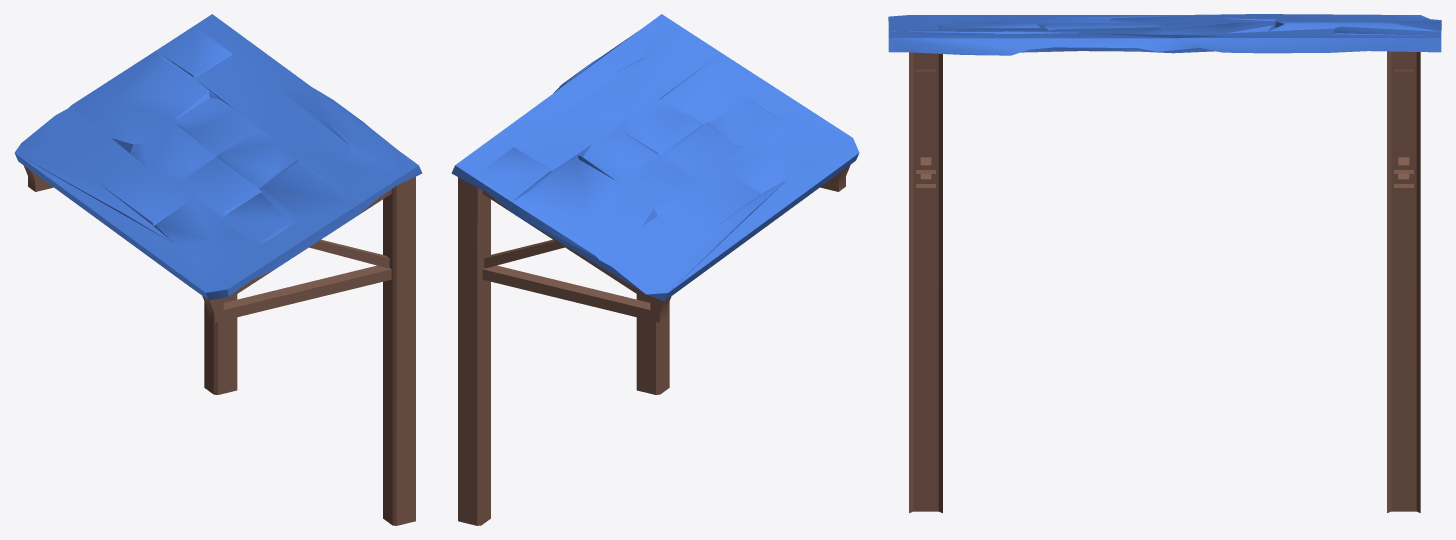
Rendered from door_canopy_1.FBX.
3 renders of one model, left to right at view 1: azimuth 30°, elevation 25°; view 2: azimuth 150°, elevation 25°; view 3: azimuth 270°, elevation 25°, orthographic. The views are drawn at different scales.
Visible parts, largest first — view 1: door_canopy_1_LOD0; view 2: door_canopy_1_LOD0; view 3: door_canopy_1_LOD0.
Part boxes in pixels (x1,y1,x2,y2): door_canopy_1_LOD0: [14, 14, 422, 525]; door_canopy_1_LOD0: [451, 14, 859, 525]; door_canopy_1_LOD0: [888, 14, 1441, 513].
Size of what is drawn, in the model's own units: 215 by 349 by 360.
